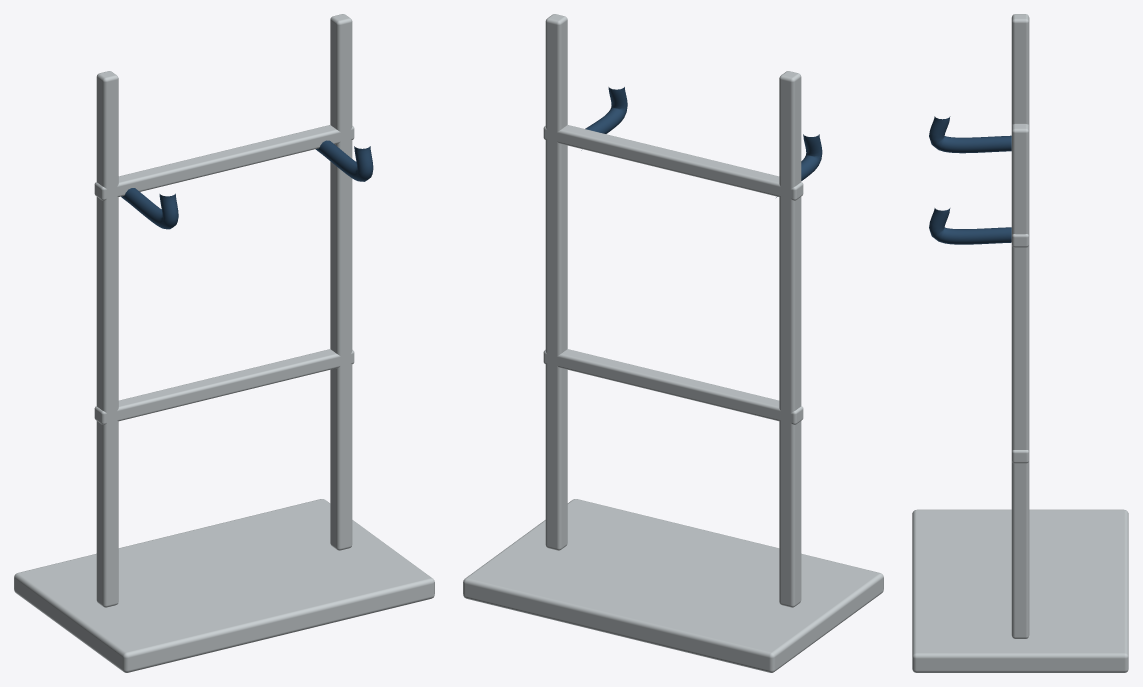
The model's file is rowing-boathouse-and-regatta-course-rigger-storage-sta-3979384e__32144.glb.
The picture shows the model from 3 angles, left to right: view 1: azimuth 30°, elevation 25°; view 2: azimuth 150°, elevation 25°; view 3: azimuth 270°, elevation 25°; orthographic projection. The views are drawn at different scales.
Visible parts, largest first — view 1: rigger-storage-stand; view 2: rigger-storage-stand; view 3: rigger-storage-stand.
Part boxes in pixels (x1,y1,x2,y2): rigger-storage-stand: (14, 14, 434, 672); rigger-storage-stand: (463, 14, 883, 672); rigger-storage-stand: (912, 14, 1128, 672).
Bounding box in the file's own units: 0.8 × 1.35 × 0.5.
